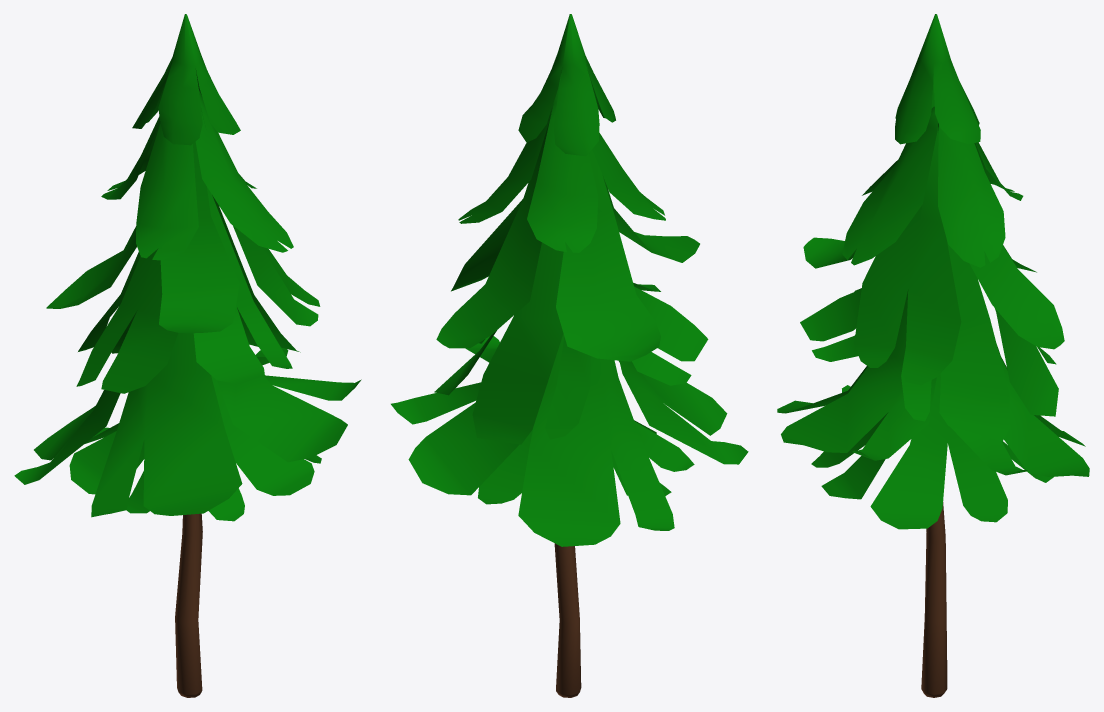
Rendered from pineTree03.fbx.
3 renders of one model, left to right at view 1: azimuth 30°, elevation 25°; view 2: azimuth 150°, elevation 25°; view 3: azimuth 270°, elevation 25°, orthographic.
Parts seen in each view (by area): view 1: pineTree03; view 2: pineTree03; view 3: pineTree03.
Boxes of the visible parts, left/top/right/bottom form: pineTree03: left=14, top=14, right=361, bottom=697; pineTree03: left=391, top=14, right=748, bottom=697; pineTree03: left=777, top=14, right=1089, bottom=697.
Size of the model in its own units: 814 by 1934 by 809.
